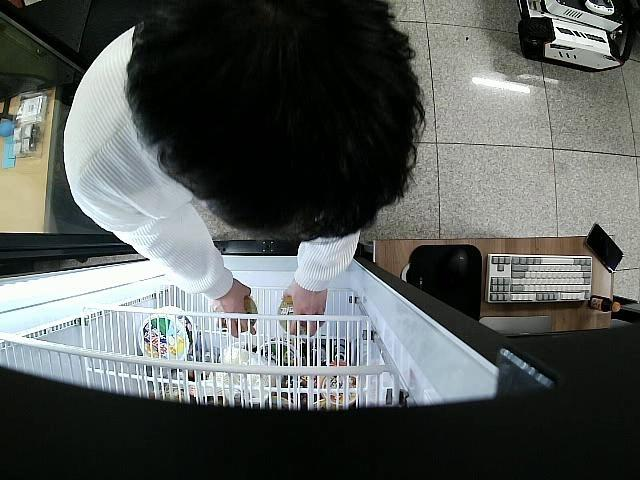04_chapagetti_S: (280, 297, 322, 336), (222, 298, 258, 335)
